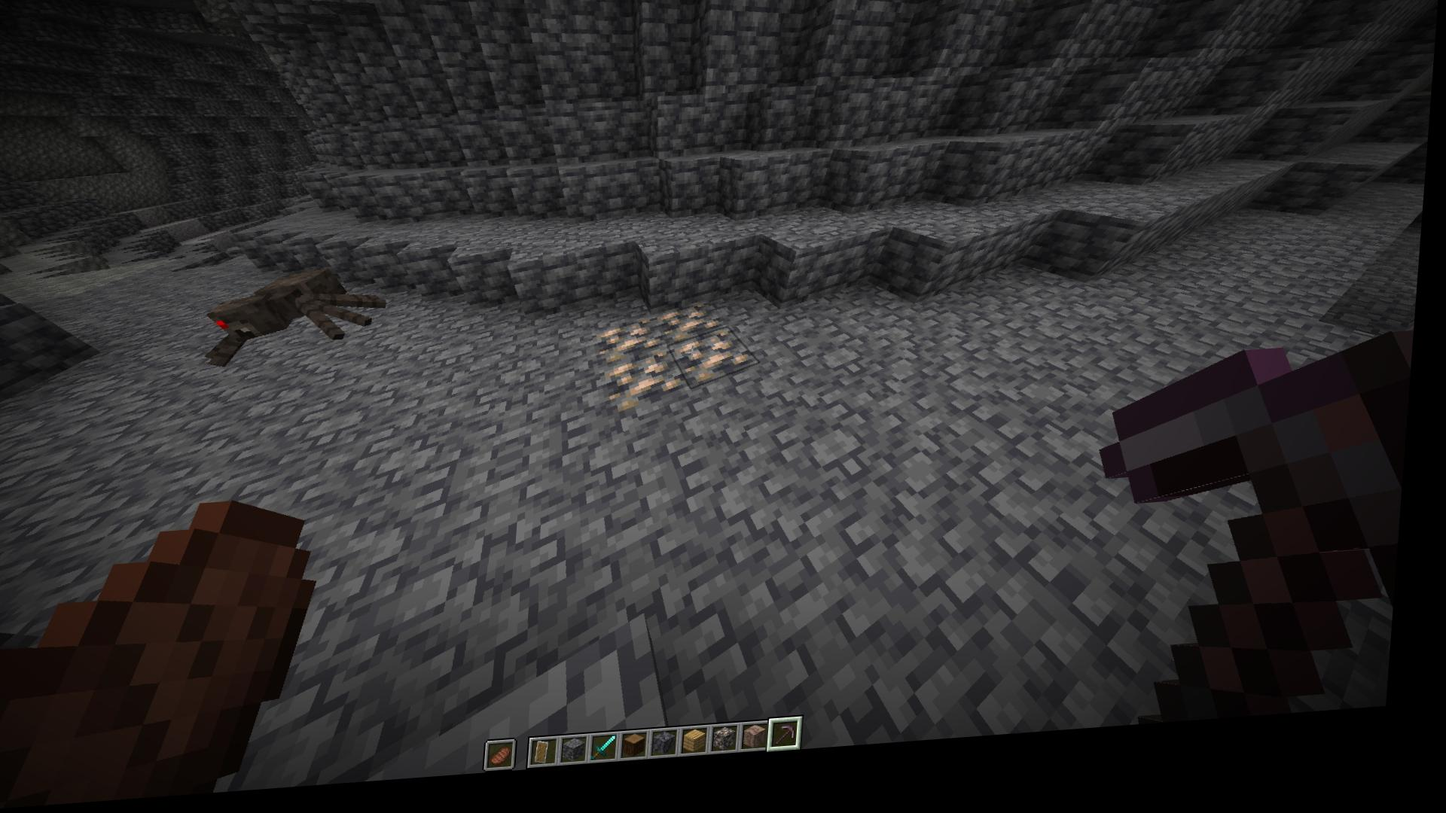iron ore: (610, 354, 688, 419), (680, 339, 758, 393), (600, 327, 667, 369), (660, 308, 722, 351)
